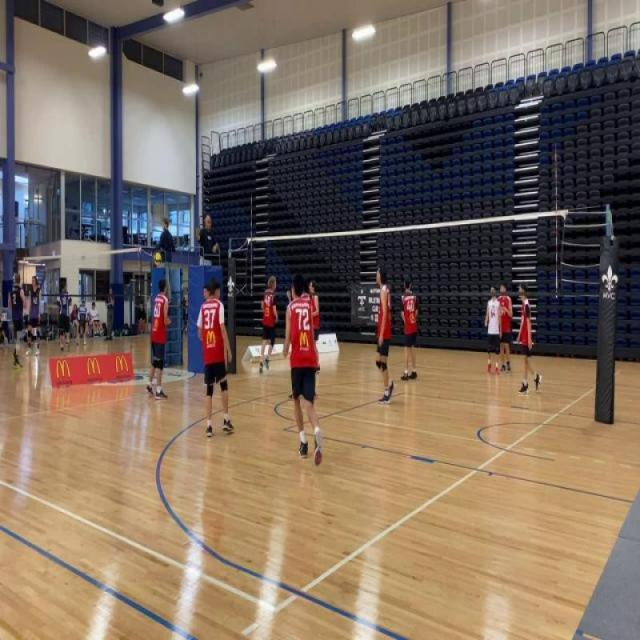volleyball: (152, 249, 164, 270)
